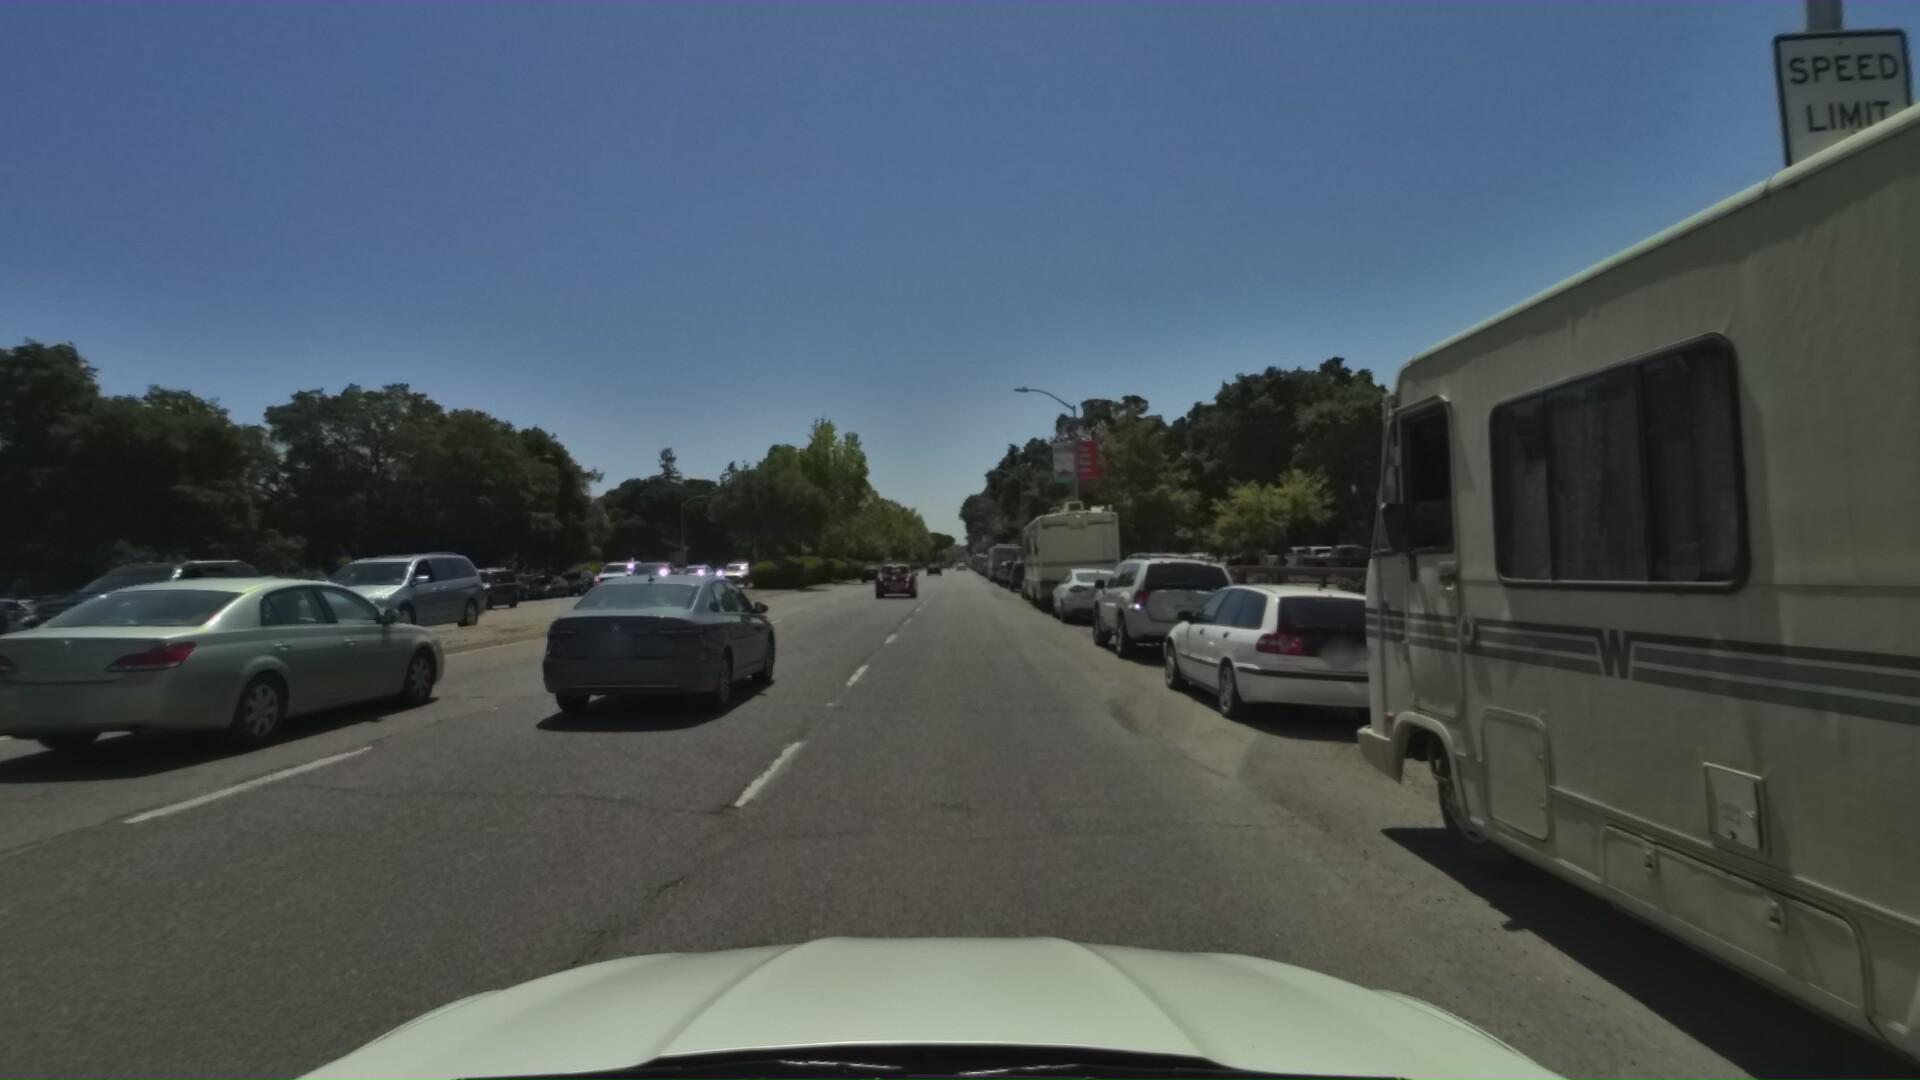car: (0, 566, 468, 787), (1153, 564, 1455, 758), (522, 564, 785, 742), (0, 553, 280, 667), (251, 541, 487, 647), (1084, 538, 1263, 665), (0, 582, 177, 645), (1044, 556, 1139, 626), (435, 560, 524, 607), (612, 554, 687, 600), (582, 553, 655, 592), (1017, 556, 1071, 596), (870, 556, 918, 597), (543, 563, 599, 592), (512, 568, 571, 595), (1005, 547, 1044, 584), (713, 553, 756, 584), (996, 549, 1035, 580), (674, 555, 717, 583), (856, 559, 884, 582), (0, 578, 5, 674)
other_vehicle: (1017, 479, 1130, 611), (982, 531, 1025, 575)
